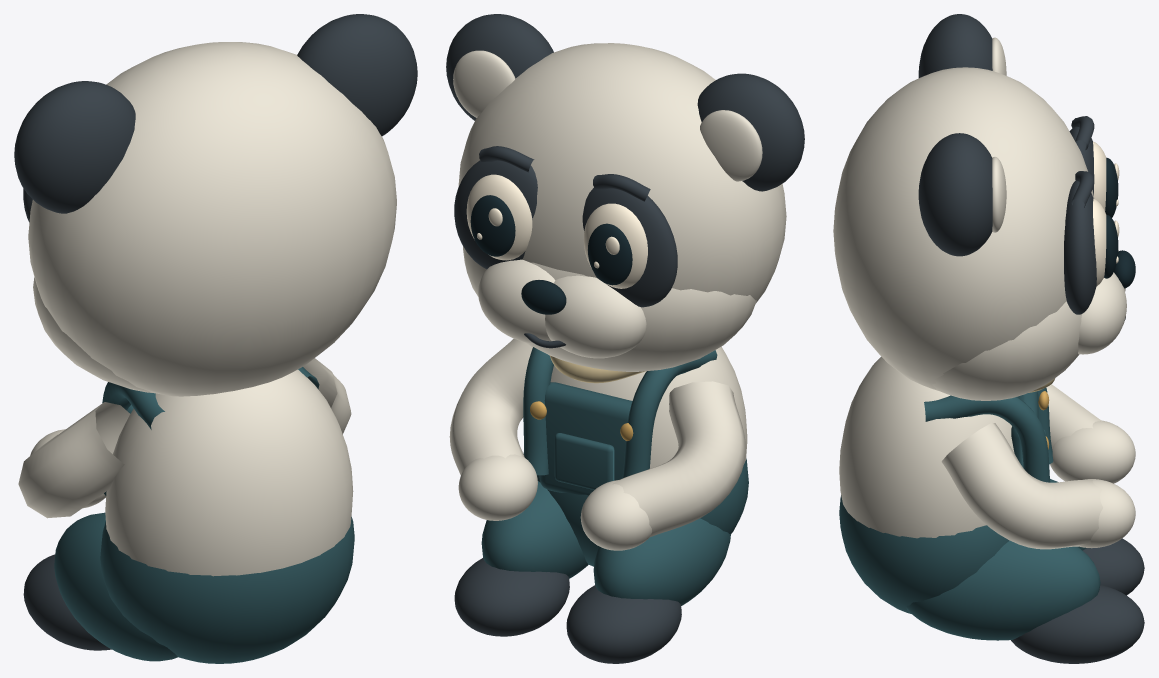
File: panda.glb
3 renders of one model, left to right at view 1: azimuth 30°, elevation 25°; view 2: azimuth 150°, elevation 25°; view 3: azimuth 270°, elevation 25°, orthographic. The views are drawn at different scales.
Visible parts, largest first — view 1: Crâne, Buste, Salopette, Oreille, Chaussure; view 2: Crâne, Salopette, Buste, Oreille, Conque, Chaussure, Patte, Blanc.001, Blanc, Iris.001, Iris, Nez (+1 smaller); view 3: Crâne, Buste, Salopette, Oreille, Chaussure, Patte, Conque, Blanc.001, Blanc, Iris.001, Iris, Nez.
Part boxes in pixels (x1=…): Crâne: x1=28, y1=42, x2=396, y2=396; Buste: x1=18, y1=358, x2=353, y2=576; Salopette: x1=54, y1=367, x2=354, y2=663; Oreille: x1=14, y1=14, x2=417, y2=222; Chaussure: x1=23, y1=554, x2=111, y2=650; Crâne: x1=458, y1=43, x2=786, y2=371; Salopette: x1=481, y1=347, x2=748, y2=605; Buste: x1=449, y1=338, x2=747, y2=537; Oreille: x1=446, y1=14, x2=804, y2=348; Conque: x1=453, y1=50, x2=762, y2=358; Chaussure: x1=454, y1=558, x2=681, y2=663; Patte: x1=458, y1=454, x2=651, y2=550; Blanc.001: x1=466, y1=174, x2=532, y2=260; Blanc: x1=583, y1=203, x2=647, y2=288; Iris.001: x1=470, y1=195, x2=515, y2=256; Iris: x1=588, y1=223, x2=632, y2=285; Nez: x1=521, y1=280, x2=566, y2=314; Crâne: x1=833, y1=67, x2=1094, y2=400; Buste: x1=839, y1=356, x2=1102, y2=549; Salopette: x1=839, y1=387, x2=1100, y2=640; Oreille: x1=918, y1=14, x2=1125, y2=320; Chaussure: x1=1011, y1=538, x2=1144, y2=663; Patte: x1=1050, y1=420, x2=1135, y2=548; Conque: x1=992, y1=37, x2=1126, y2=354; Blanc.001: x1=1093, y1=198, x2=1119, y2=286; Blanc: x1=1093, y1=141, x2=1119, y2=210; Iris.001: x1=1104, y1=215, x2=1118, y2=278; Iris: x1=1105, y1=157, x2=1118, y2=217; Nez: x1=1114, y1=250, x2=1135, y2=288.
Bounding box in the file's own units: 1.38 × 2.07 × 1.06.
